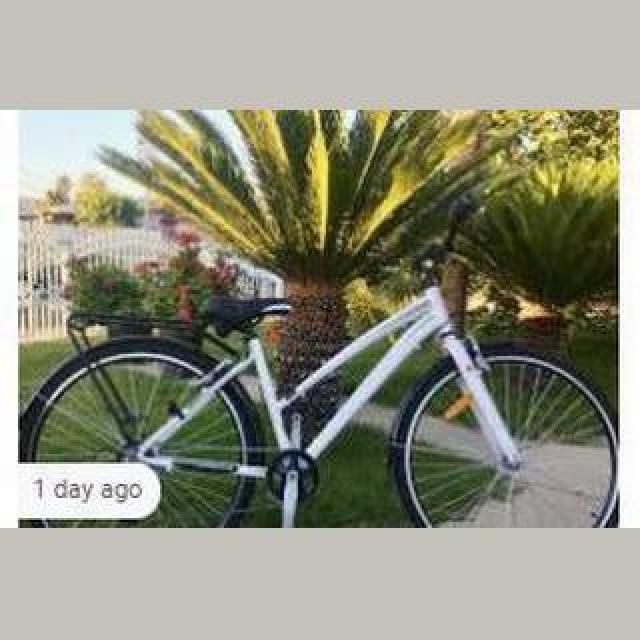Person: (19, 196, 619, 528)
